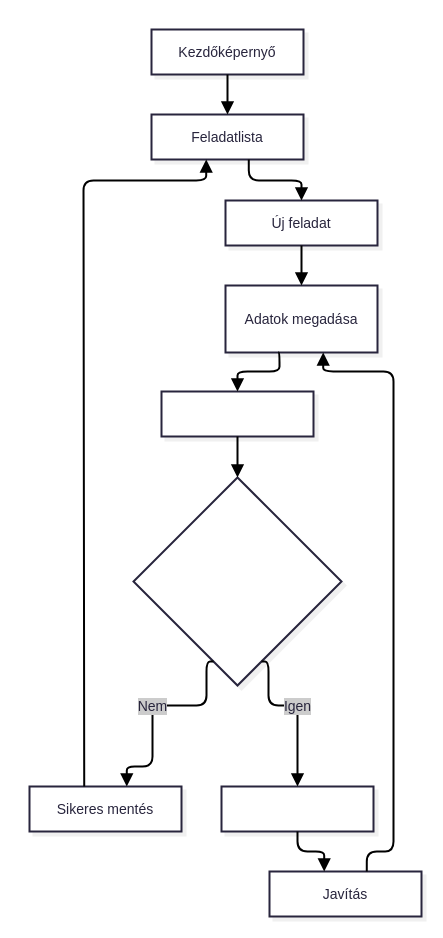
This 443x938 diagram has some shape labels left out. The shapes that lost their labels are listed below. From the top down, each one's centre as x and y in pixels, then its label:
(x=239, y=415): Mentés
(x=239, y=583): Hiányosak az adatok?
(x=299, y=810): Hibaüzenet
